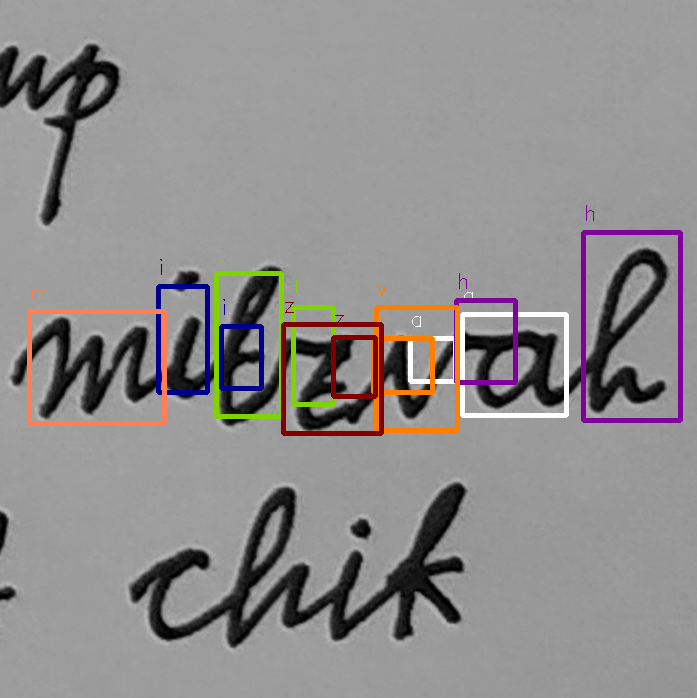a: (469, 325, 560, 415)
h: (582, 243, 673, 415)
i: (158, 265, 207, 408)
m: (33, 311, 151, 422)
t: (213, 262, 284, 430)
v: (381, 323, 467, 424)
z: (287, 330, 361, 435)
